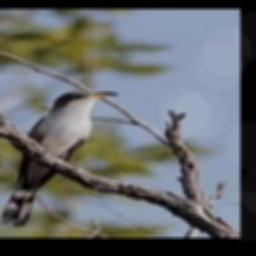Cuckoo: (1, 91, 118, 226)
